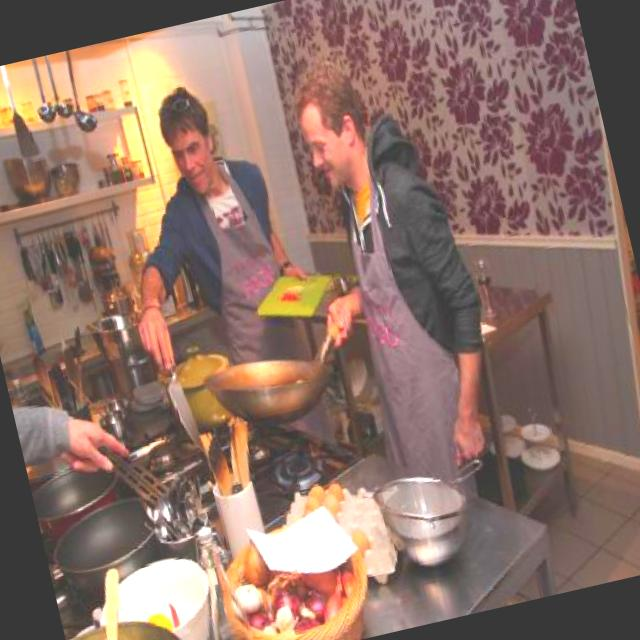Person: (292, 58, 533, 542), (81, 64, 346, 481)
